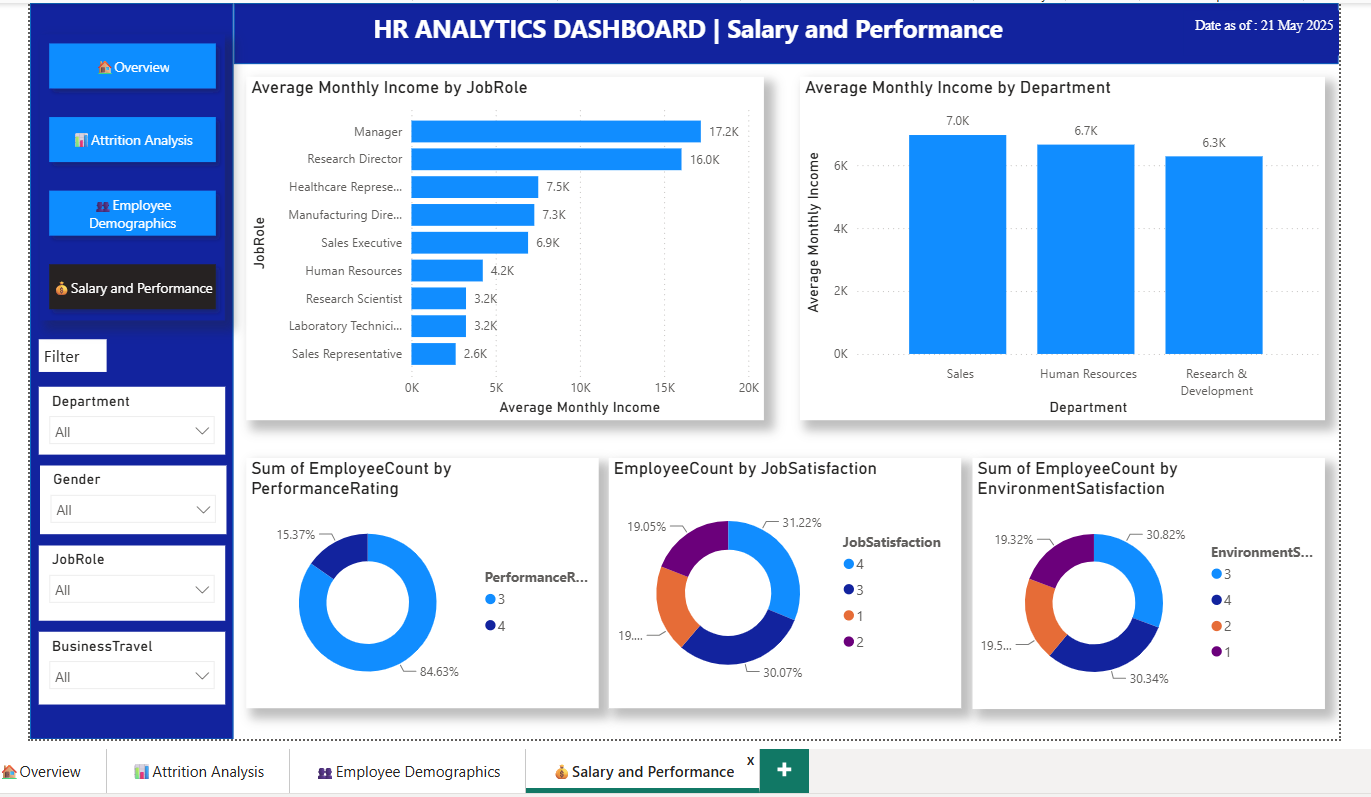

The page's visual inventory and layout, read from the dashboard file:
{"tool":"powerbi","page":{"name":"💰Salary and Performance","canvas":[1280,720],"ordinal":3},"visuals":[{"type":"shape","box":[0,0,199,720.4],"z":0},{"type":"shape","box":[199,0,1081,59.9],"z":1000},{"type":"textbox","box":[312.9,4.1,661.4,46.7],"z":2000},{"type":"slicer","fields":{"Values":["hr_analytics staging_hr.Department"]},"box":[8.6,375.4,182.2,66],"z":7000},{"type":"slicer","fields":{"Values":["hr_analytics staging_hr.Gender"]},"box":[9.8,452.4,182.2,67.3],"z":8000},{"type":"slicer","fields":{"Values":["hr_analytics staging_hr.JobRole"]},"box":[8.6,530.7,182.2,73.4],"z":9000},{"type":"slicer","fields":{"Values":["hr_analytics staging_hr.BusinessTravel"]},"box":[8.6,615.1,182.2,70.9],"z":10000},{"type":"textbox","box":[1128.4,7.3,151.6,44],"z":11000},{"type":"textbox","box":[8.6,328.9,66,31.8],"z":12000},{"type":"barChart","fields":{"Category":["hr_analytics staging_hr.JobRole"],"Y":["hr_analytics staging_hr.Average Monthly Income"]},"box":[211.3,72.7,506.3,336.2],"z":13000},{"type":"clusteredColumnChart","fields":{"Category":["hr_analytics staging_hr.Department"],"Y":["hr_analytics staging_hr.Average Monthly Income"]},"box":[753.3,72.7,513.2,336.2],"z":14000},{"type":"donutChart","fields":{"Category":["hr_analytics staging_hr.PerformanceRating"],"Y":["Sum(hr_analytics staging_hr.EmployeeCount)"]},"box":[211.3,444.6,345,245],"z":15000},{"type":"donutChart","title":"EmployeeCount by JobSatisfaction","fields":{"Category":["hr_analytics staging_hr.JobSatisfaction"],"Y":["Sum(hr_analytics staging_hr.EmployeeCount)"]},"box":[566.7,444.6,345,245],"z":16000},{"type":"donutChart","fields":{"Y":["Sum(hr_analytics staging_hr.EmployeeCount)"],"Category":["hr_analytics staging_hr.EnvironmentSatisfaction"]},"box":[922.1,444.6,345,245.6],"z":17000},{"type":"pageNavigator","box":[9.6,30.2,181.1,279.9],"z":17001}]}

Visuals, with their boxes on the page's 1280x720 design canvas (x1, y1, x2, y2). These are canvas units, not pixel positions in the 1371x797 screenshot, which may show the page scaled, cropped or inside an application window:
shape: <region>0, 0, 199, 720</region>
shape: <region>199, 0, 1280, 60</region>
textbox: <region>313, 4, 974, 51</region>
slicer - hr_analytics staging_hr.Department: <region>9, 375, 191, 441</region>
slicer - hr_analytics staging_hr.Gender: <region>10, 452, 192, 520</region>
slicer - hr_analytics staging_hr.JobRole: <region>9, 531, 191, 604</region>
slicer - hr_analytics staging_hr.BusinessTravel: <region>9, 615, 191, 686</region>
textbox: <region>1128, 7, 1280, 51</region>
textbox: <region>9, 329, 75, 361</region>
barChart - hr_analytics staging_hr.JobRole x hr_analytics staging_hr.Average Monthly Income: <region>211, 73, 718, 409</region>
clusteredColumnChart - hr_analytics staging_hr.Department x hr_analytics staging_hr.Average Monthly Income: <region>753, 73, 1266, 409</region>
donutChart - hr_analytics staging_hr.PerformanceRating x Sum(hr_analytics staging_hr.EmployeeCount): <region>211, 445, 556, 690</region>
"EmployeeCount by JobSatisfaction" donutChart: <region>567, 445, 912, 690</region>
donutChart - Sum(hr_analytics staging_hr.EmployeeCount) x hr_analytics staging_hr.EnvironmentSatisfaction: <region>922, 445, 1267, 690</region>
pageNavigator: <region>10, 30, 191, 310</region>
